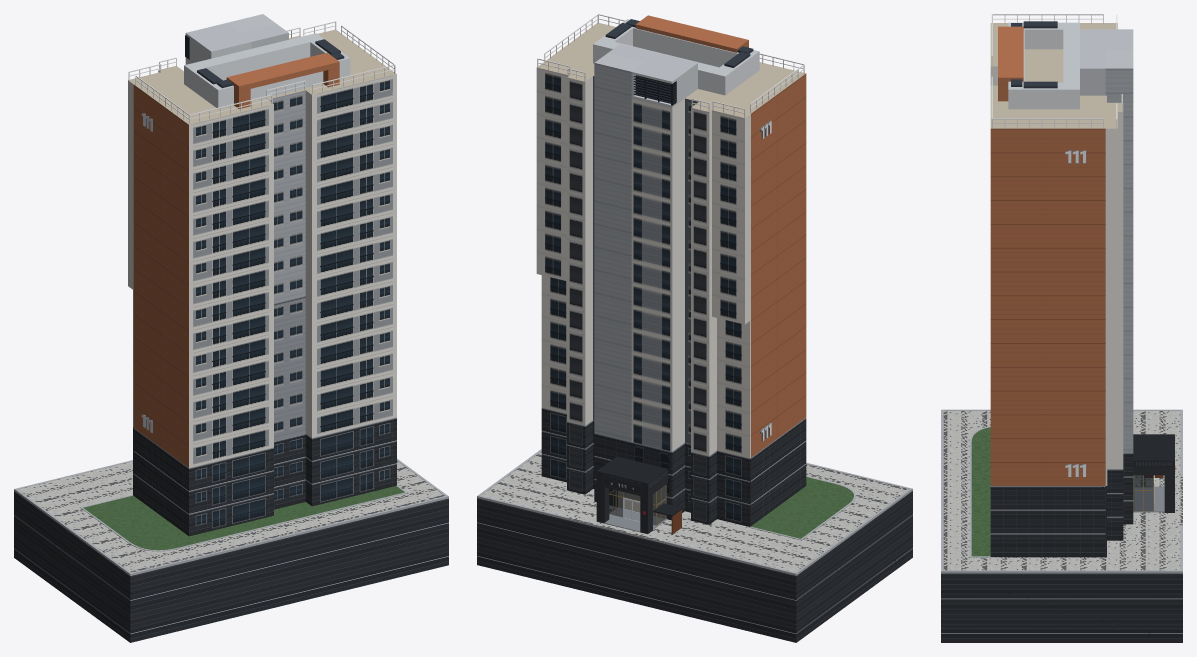
File: place_금파힐111.glb
3 views of the same model, side by side, from view 1: azimuth 30°, elevation 25°; view 2: azimuth 150°, elevation 25°; view 3: azimuth 270°, elevation 25° (orthographic). The views are drawn at different scales.
Parts seen in each view (by area): view 1: KumhoParkHills_111, Walkway_1F_RetainingBase, Walkway_1F_BaseDeck, Garden_111_WestSouth, Walkway_1F_OuterCurb, Garden_111_Curb; view 2: KumhoParkHills_111, Walkway_1F_RetainingBase, Walkway_1F_BaseDeck, Garden_111_WestSouth, Walkway_1F_OuterCurb; view 3: KumhoParkHills_111, Walkway_1F_RetainingBase, Walkway_1F_BaseDeck, Garden_111_WestSouth, Walkway_1F_OuterCurb, Garden_111_Curb.
Part boxes in pixels (x1,y1,x2,y2): KumhoParkHills_111: (128,14,396,536); Walkway_1F_RetainingBase: (14,491,448,642); Walkway_1F_BaseDeck: (14,461,448,575); Garden_111_WestSouth: (83,486,404,550); Walkway_1F_OuterCurb: (14,458,448,574); Garden_111_Curb: (80,485,407,551); KumhoParkHills_111: (536,14,806,534); Walkway_1F_RetainingBase: (477,491,912,642); Walkway_1F_BaseDeck: (477,451,912,575); Garden_111_WestSouth: (748,477,853,538); Walkway_1F_OuterCurb: (477,449,912,575); KumhoParkHills_111: (990,14,1175,557); Walkway_1F_RetainingBase: (941,573,1182,642); Walkway_1F_BaseDeck: (941,411,1182,573); Garden_111_WestSouth: (971,427,1003,557); Walkway_1F_OuterCurb: (941,409,1182,573); Garden_111_Curb: (969,426,990,557).
Bounding box in the file's own units: 38.6 × 58.65 × 24.4.
84 materials, 37 textured.
